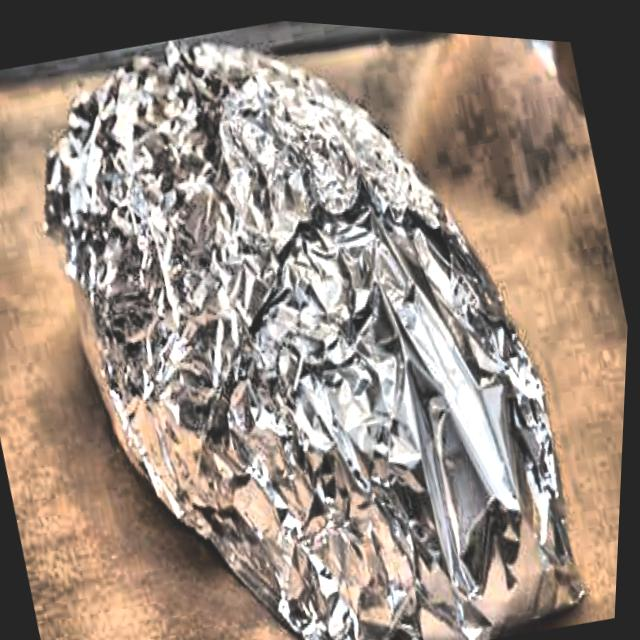Foil: (0, 0, 635, 640)
